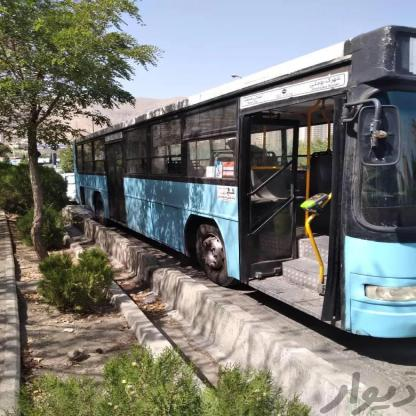Bus: (47, 0, 416, 357)
